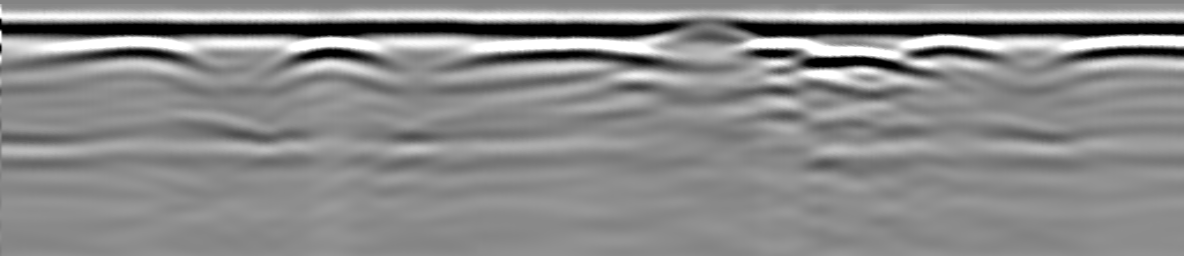pipe: (642, 19, 769, 42)
steel: (739, 38, 999, 67), (457, 39, 669, 66), (28, 37, 208, 66), (1057, 36, 1184, 63), (272, 38, 397, 65)
